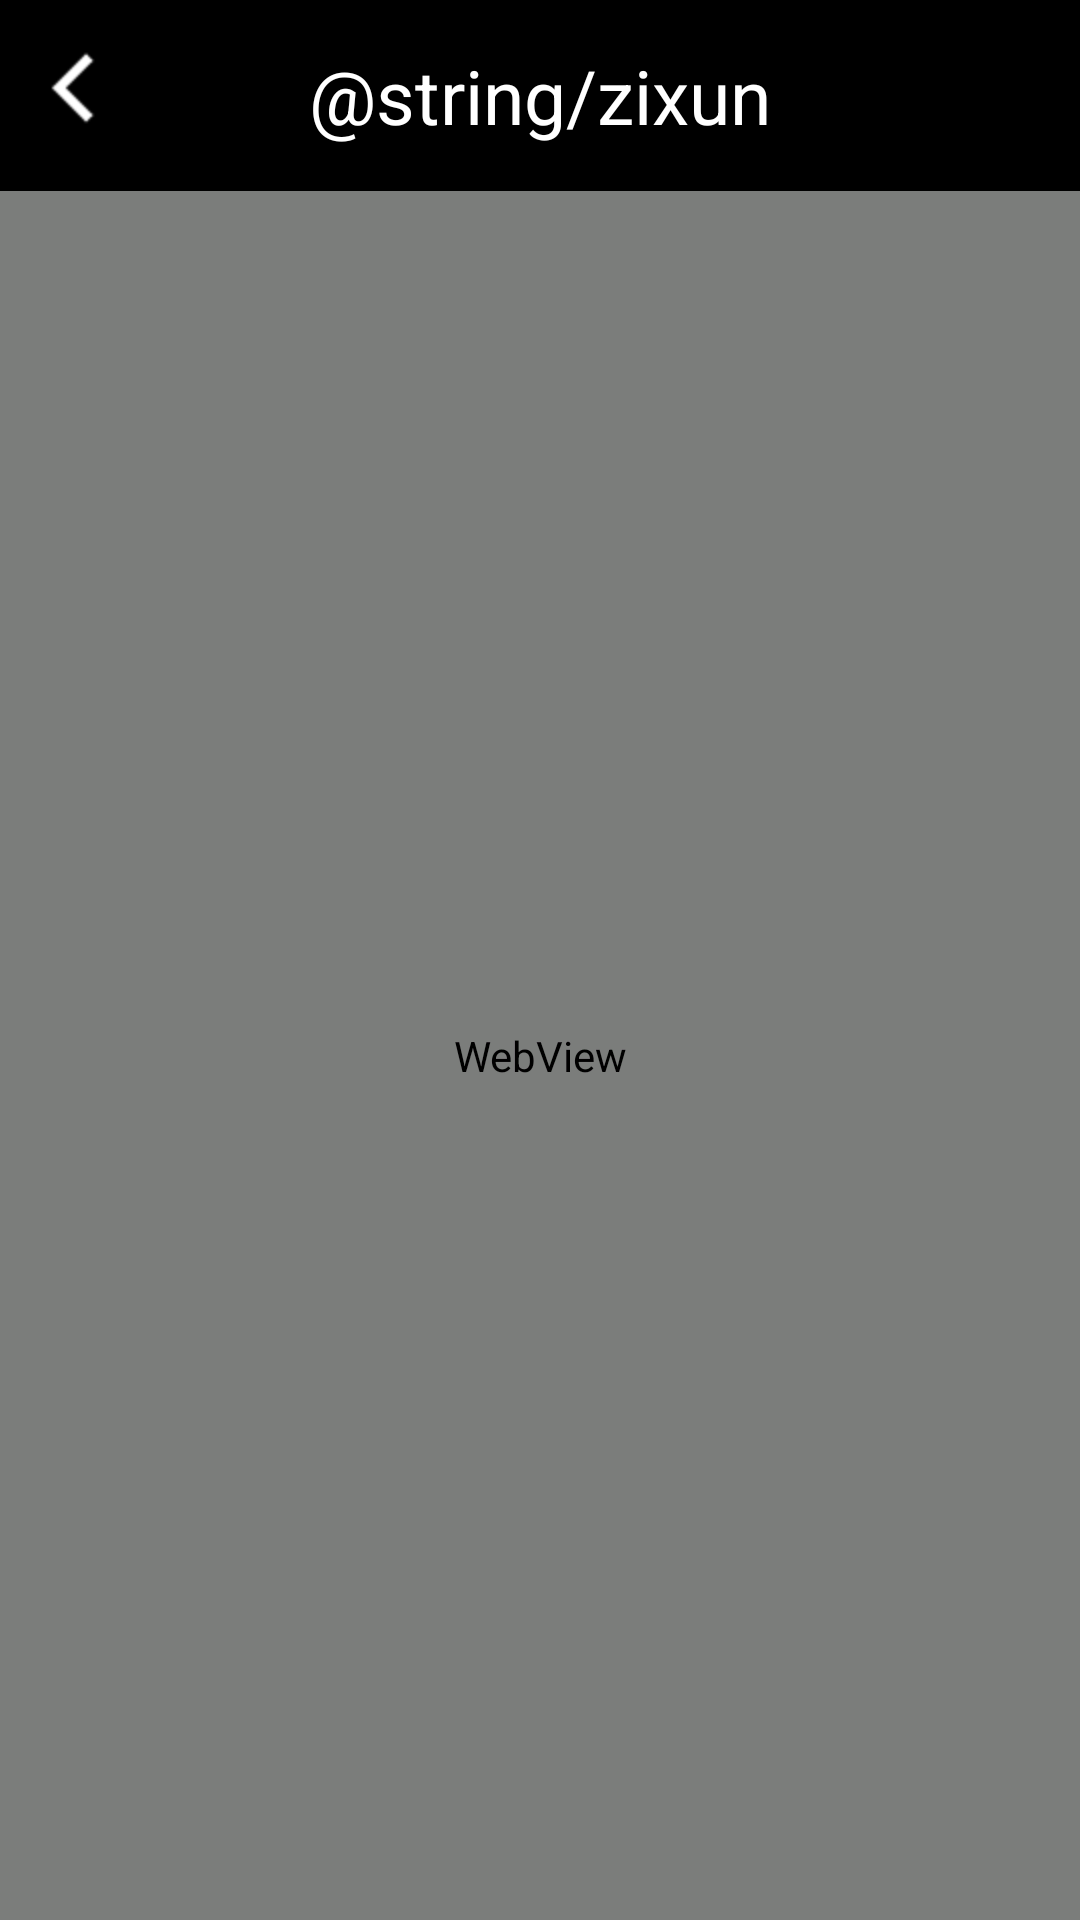

Where icons sit on this 1080w x 1920h app screen, as box=[x1, y1, x2, y2]:
back: box=[51, 53, 94, 123]
